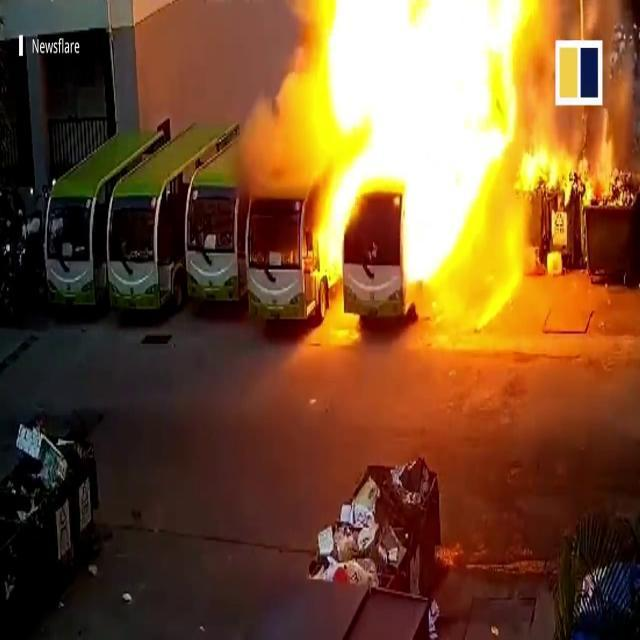Fire: (280, 0, 547, 325), (520, 116, 628, 209)
